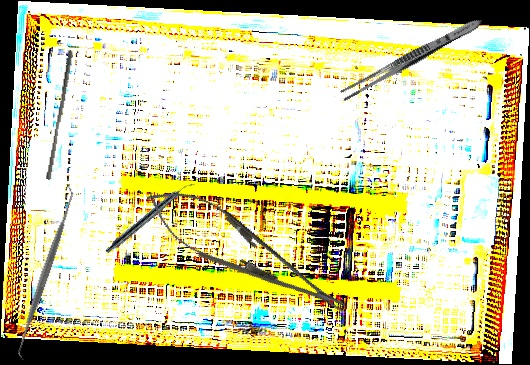Dressing Forceps: (337, 13, 486, 105)
Handpiece: (103, 177, 196, 257)
Needle Holder: (134, 172, 357, 333)
Pusher: (45, 49, 74, 181)
Spatula Surgical: (6, 183, 85, 361)
